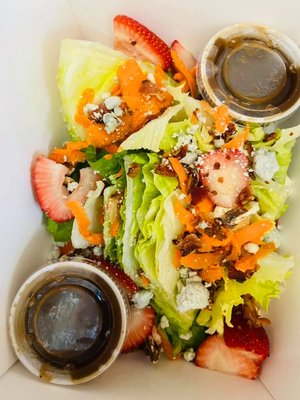sushi: (7, 258, 138, 386), (195, 22, 300, 128)
